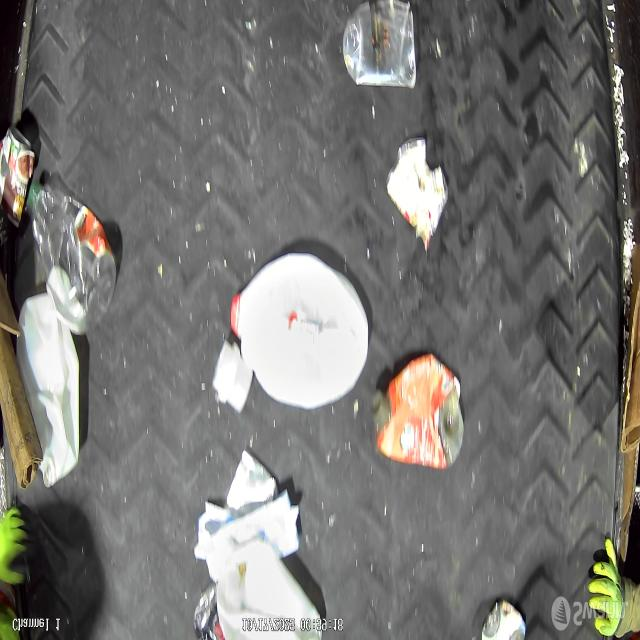can: (0, 123, 37, 226), (481, 598, 527, 640)
milk_jug: (228, 253, 370, 411), (21, 294, 82, 490), (217, 540, 322, 640)
plastic_bottle: (31, 179, 116, 331)
